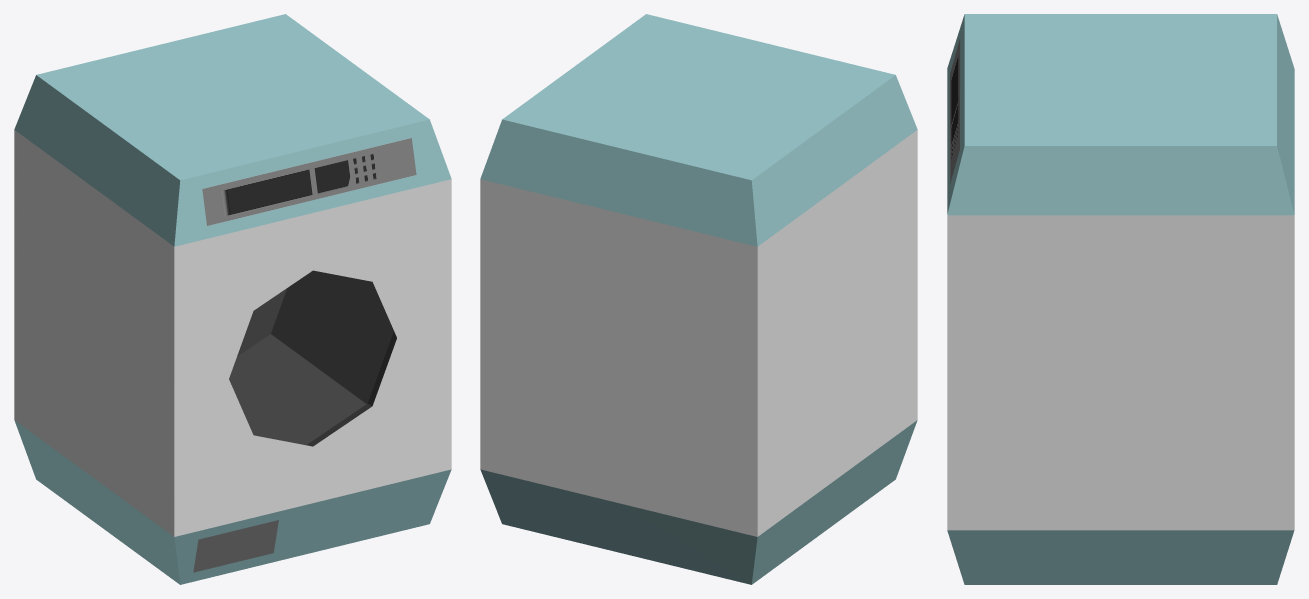
File: Itr_Washingmachine_Body_04.FBX
3 views of the same model, side by side, from view 1: azimuth 30°, elevation 25°; view 2: azimuth 150°, elevation 25°; view 3: azimuth 270°, elevation 25° (orthographic). The views are drawn at different scales.
Visible parts, largest first — view 1: Itr_Washingmachine_Body_04; view 2: Itr_Washingmachine_Body_04; view 3: Itr_Washingmachine_Body_04.
Part boxes in pixels (x1,y1,x2,y2): Itr_Washingmachine_Body_04: [14, 14, 451, 584]; Itr_Washingmachine_Body_04: [480, 14, 917, 584]; Itr_Washingmachine_Body_04: [947, 14, 1294, 584].
Size of the model in its own units: 39.37 by 54.89 by 39.45.
